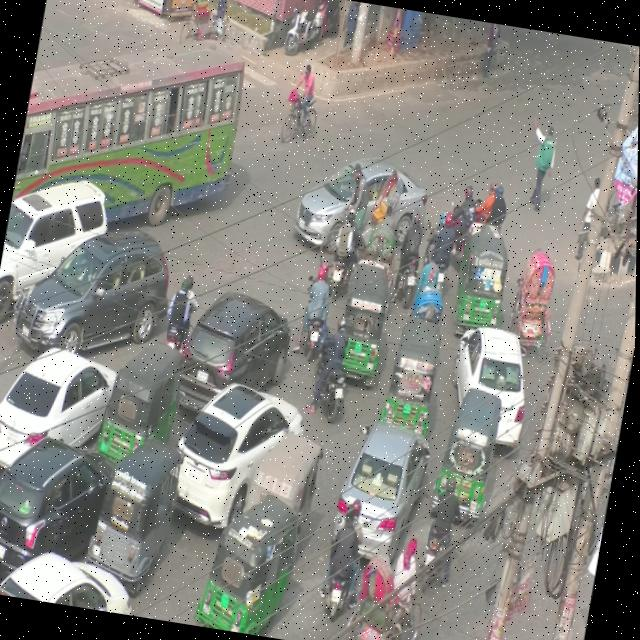cng: (87, 320, 198, 488), (200, 496, 302, 638), (428, 382, 512, 536), (241, 414, 333, 544), (446, 208, 526, 354), (324, 253, 402, 389), (385, 318, 450, 431)
rikshaw: (316, 154, 416, 282), (505, 239, 578, 353), (406, 248, 454, 344), (363, 203, 408, 299), (169, 0, 241, 60)
